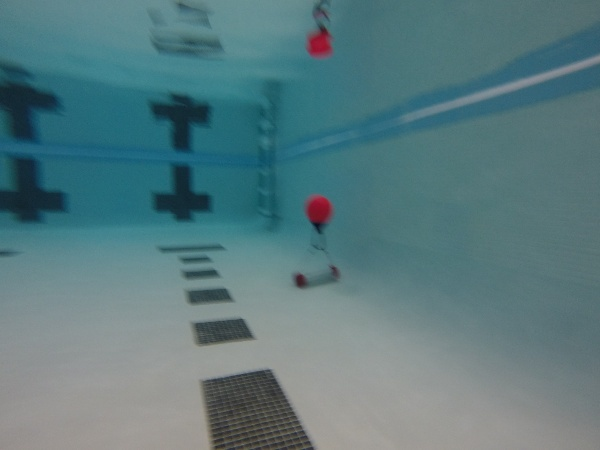buoy_red: (303, 194, 334, 235)
